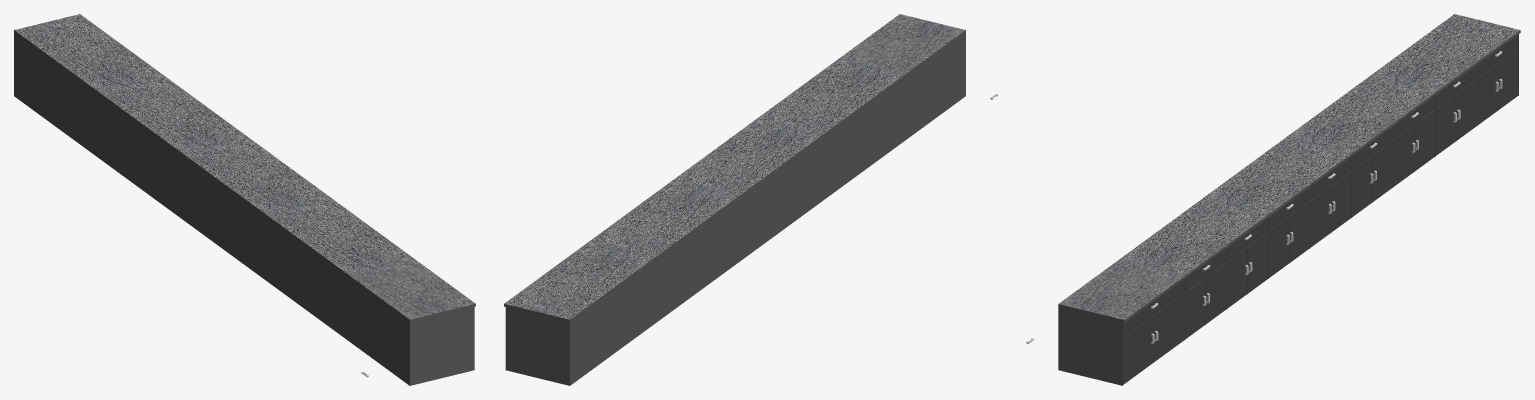
File: mesada (1).fbx
3 renders of one model, left to right at view 1: azimuth 30°, elevation 25°; view 2: azimuth 150°, elevation 25°; view 3: azimuth 330°, elevation 25°, orthographic.
Parts seen in each view (by area): view 1: Cube.002; view 2: Cube.002; view 3: Cube.002.
Boxes of the visible parts, x1,y1,x2,y2 form: Cube.002: [14, 14, 475, 385]; Cube.002: [504, 14, 965, 385]; Cube.002: [1058, 14, 1520, 385].
Size of the model in its own units: 223 by 137 by 1472.
